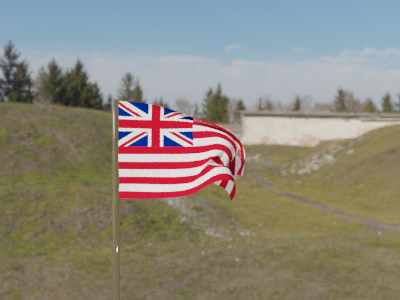Malaysia flag: (113, 99, 246, 200)
